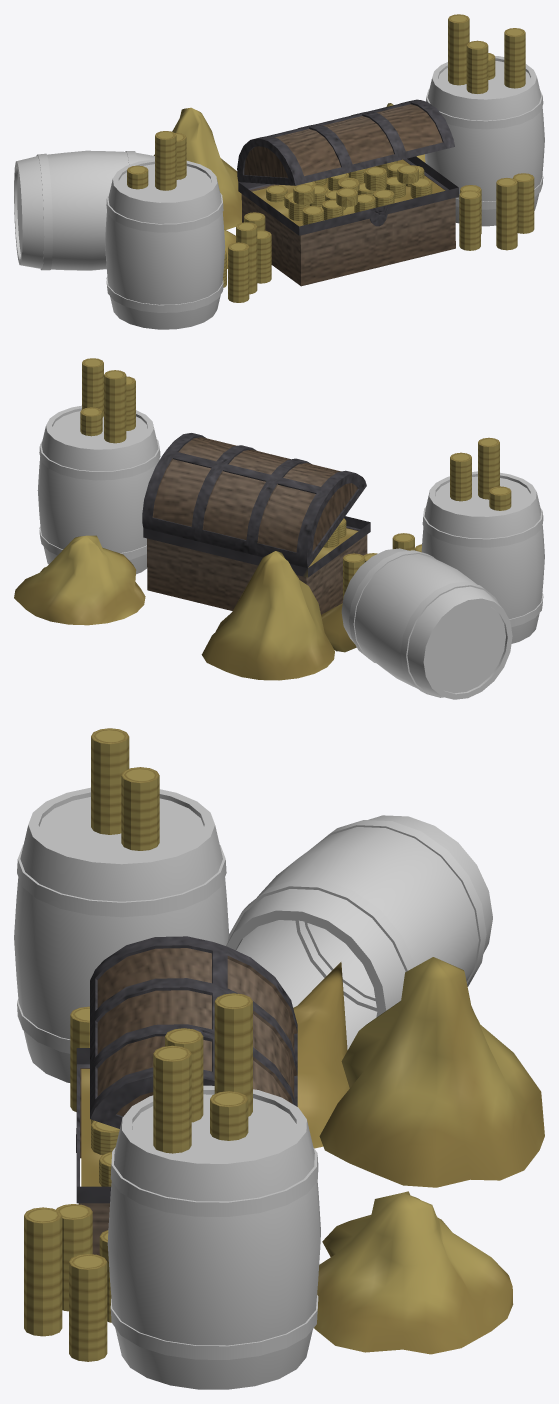
File: Prop_treasure.fbx
3 views of the same model, one above another, from view 1: azimuth 30°, elevation 25°; view 2: azimuth 150°, elevation 25°; view 3: azimuth 270°, elevation 25° (orthographic). The views are drawn at different scales.
Parts seen in each view (by area): view 1: pCylinder3, pCube1, pCylinder29, taru3:pCylinder3, pCylinder1, pCone2, pCylinder37, pCylinder31, pCylinder30, pCylinder34, pCylinder36, polySurface3 (+8 smaller); view 2: pCylinder1, taru3:pCylinder3, pCylinder29, pCylinder3, pCone2, pCube1, pCone3, pCylinder37, pCylinder36, pCone1, polySurface4, polySurface2 (+3 smaller); view 3: pCylinder29, taru3:pCylinder3, pCylinder3, pCone2, pCylinder1, pCone3, pCylinder37, pCone1, pCylinder30, pCylinder31, pCylinder36, polySurface5 (+5 smaller).
Boxes of the visible parts, x1,y1,x2,y2 form: pCylinder3: [105, 159, 225, 329]; pCube1: [238, 156, 458, 286]; pCylinder29: [425, 56, 544, 226]; taru3:pCylinder3: [14, 150, 154, 270]; pCylinder1: [237, 99, 454, 185]; pCone2: [154, 107, 241, 229]; pCylinder37: [155, 28, 525, 190]; pCylinder31: [236, 178, 517, 294]; pCylinder30: [228, 173, 534, 302]; pCylinder34: [244, 190, 480, 250]; pCylinder36: [448, 14, 469, 85]; polySurface3: [466, 40, 488, 93]; pCylinder1: [142, 433, 366, 568]; taru3:pCylinder3: [341, 548, 512, 699]; pCylinder29: [37, 405, 160, 574]; pCylinder3: [421, 471, 544, 643]; pCone2: [201, 551, 334, 680]; pCube1: [143, 516, 370, 614]; pCone3: [14, 535, 145, 625]; pCylinder37: [82, 358, 499, 499]; pCylinder36: [104, 370, 126, 443]; pCone1: [321, 603, 356, 652]; polySurface4: [450, 452, 471, 501]; polySurface2: [80, 407, 102, 436]; pCylinder29: [107, 1085, 320, 1389]; taru3:pCylinder3: [226, 815, 492, 1049]; pCylinder3: [14, 787, 228, 1082]; pCone2: [319, 957, 544, 1187]; pCylinder1: [90, 936, 297, 1128]; pCone3: [314, 1191, 513, 1354]; pCylinder37: [91, 728, 191, 1153]; pCone1: [293, 962, 349, 1148]; pCylinder30: [69, 1006, 107, 1361]; pCylinder31: [24, 1207, 62, 1336]; pCylinder36: [214, 993, 252, 1116]; polySurface5: [121, 767, 159, 850].
Bounding box in the file's own units: 9.16 × 3.44 × 4.9.
